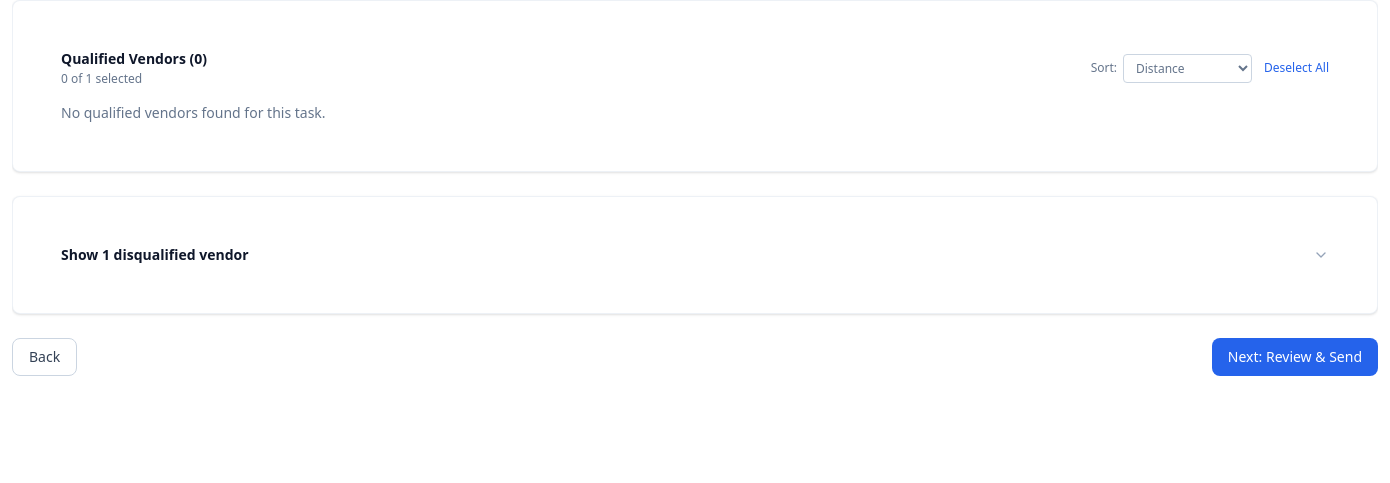
VendorSelectionStep advisories › leaves the disqualified checkbox enabled for a tolerable reason with a contact
Click the button "Show 1 disqualified vendor".
click(81, 254)  # box top-left (61, 245), bottom-right (1329, 265)
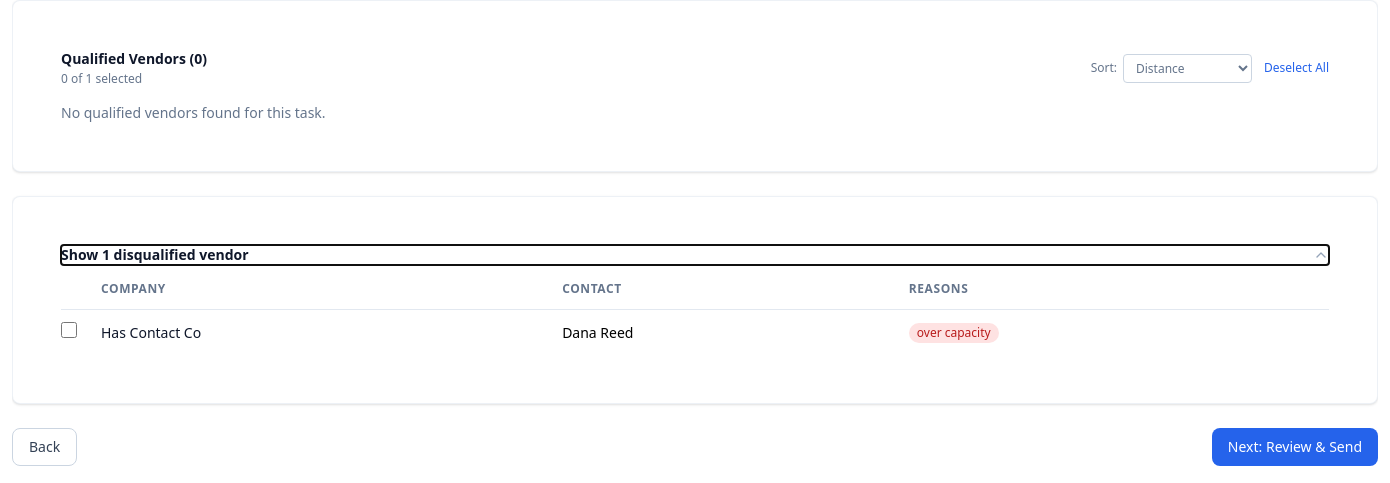
Expected: the checkbox is enabled, top-left (61, 322), bottom-right (77, 338)
